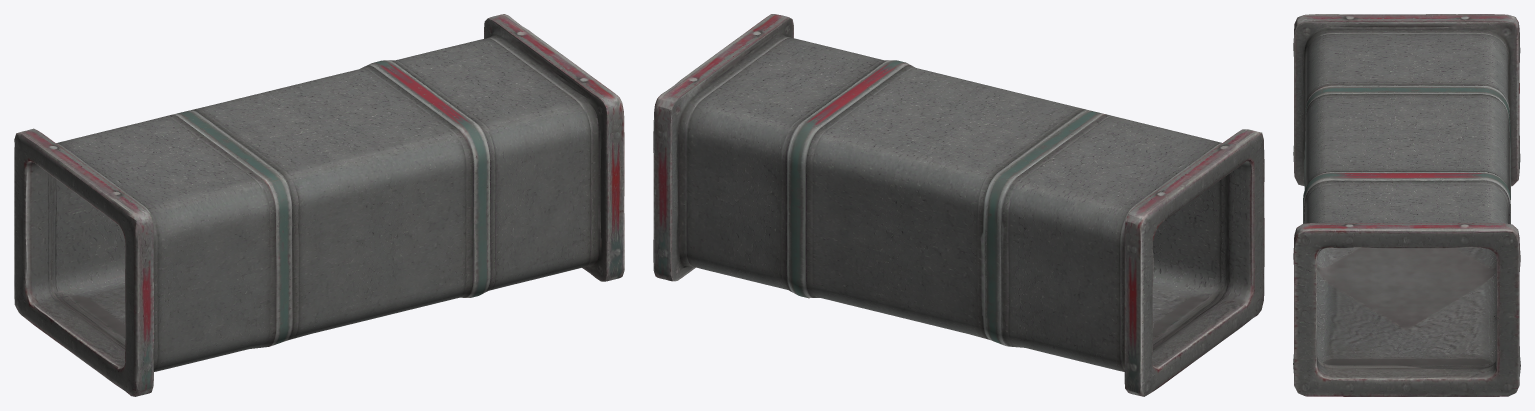
The model's file is Meshy_AI_Riveted_Steel_Duct_0625181303_texture.fbx.
3 renders of one model, left to right at view 1: azimuth 30°, elevation 25°; view 2: azimuth 150°, elevation 25°; view 3: azimuth 270°, elevation 25°, orthographic. The views are drawn at different scales.
Parts seen in each view (by area): view 1: Mesh0; view 2: Mesh0; view 3: Mesh0.
Part boxes in pixels (x1,y1,x2,y2): Mesh0: (14,14,624,396); Mesh0: (653,14,1264,396); Mesh0: (1293,14,1520,396).
Size of the model in its own units: 191 by 68.72 by 84.32.
Materials: 1 (1 with a texture image).
